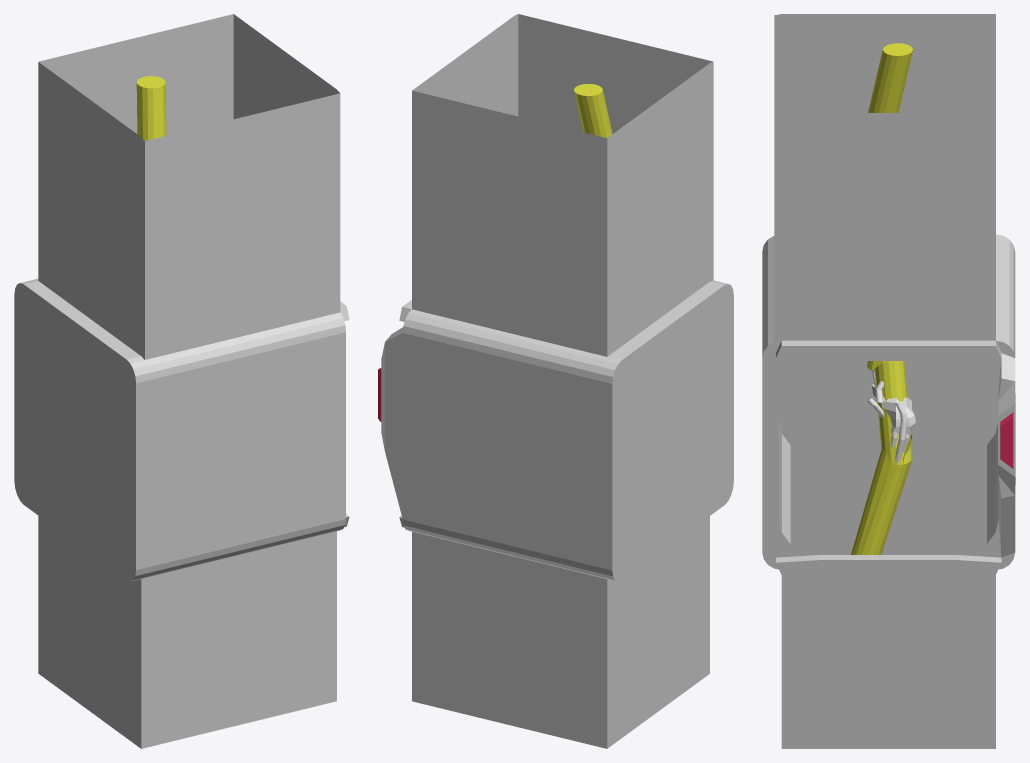
The model's file is Wires.fbx.
3 views of the same model, side by side, from view 1: azimuth 30°, elevation 25°; view 2: azimuth 150°, elevation 25°; view 3: azimuth 270°, elevation 25° (orthographic). The views are drawn at different scales.
Parts seen in each view (by area): view 1: Hetch, Wire; view 2: Hetch, Wire; view 3: Hetch, Wire, WireDamaged, Plane.
Boxes of the visible parts, x1=… form: Hetch: x1=14, y1=14, x2=349, y2=748; Wire: x1=136, y1=76, x2=166, y2=140; Hetch: x1=378, y1=14, x2=733, y2=748; Wire: x1=574, y1=84, x2=612, y2=137; Hetch: x1=762, y1=14, x2=1015, y2=748; Wire: x1=857, y1=43, x2=912, y2=554; WireDamaged: x1=851, y1=361, x2=912, y2=554; Plane: x1=871, y1=384, x2=915, y2=434.
Size of the model in its own units: 112 by 281 by 100.
